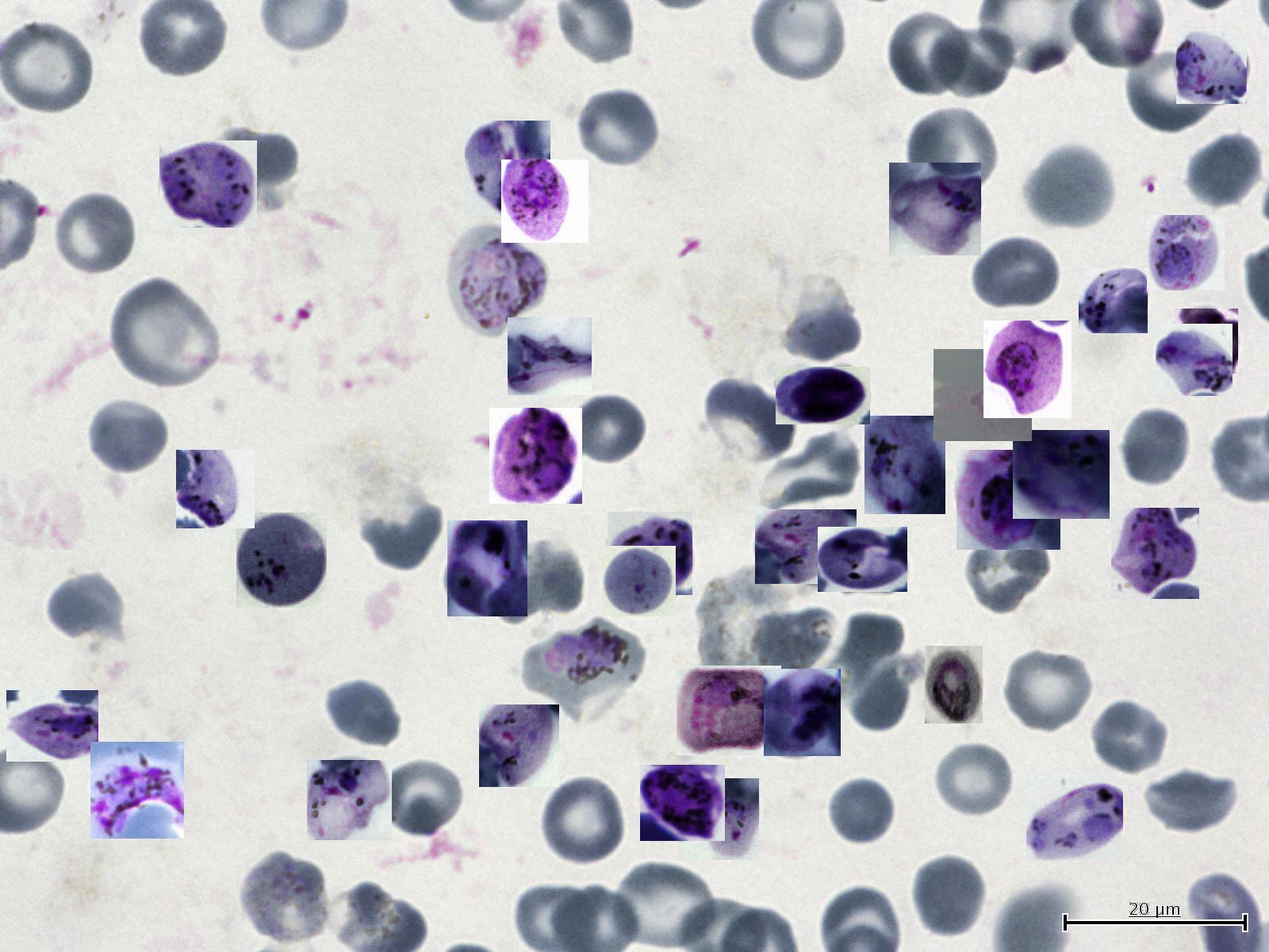Infected: (448, 223, 549, 336), (518, 618, 647, 703), (957, 450, 1060, 550), (677, 666, 782, 755), (90, 742, 184, 839), (934, 349, 1032, 441), (489, 408, 582, 504), (236, 512, 327, 608), (1026, 772, 1123, 861), (983, 321, 1072, 418), (1013, 430, 1110, 519), (159, 141, 257, 228), (889, 163, 981, 255), (465, 121, 550, 216), (1111, 508, 1199, 599), (865, 416, 945, 514), (447, 520, 527, 616), (756, 509, 857, 584), (501, 159, 588, 243), (608, 512, 692, 595), (307, 760, 392, 840), (479, 704, 559, 787), (6, 690, 98, 762), (765, 669, 841, 756), (680, 778, 760, 860), (508, 317, 592, 395), (640, 765, 725, 841), (176, 450, 255, 528), (1147, 215, 1225, 290), (818, 527, 907, 592), (1156, 324, 1233, 397), (776, 367, 870, 424), (1176, 30, 1247, 104), (602, 546, 676, 616), (925, 646, 983, 724), (1079, 268, 1148, 333), (1175, 309, 1238, 374)
Uninfected: (107, 281, 215, 388), (0, 24, 99, 119), (961, 516, 1052, 616), (617, 859, 717, 950), (904, 107, 1000, 201), (700, 375, 798, 466), (1121, 49, 1222, 133), (539, 774, 628, 868), (1023, 142, 1115, 231), (240, 852, 329, 944), (1002, 647, 1094, 734), (374, 754, 466, 839), (764, 429, 861, 509), (746, 605, 835, 691), (50, 190, 137, 277), (575, 87, 660, 171), (205, 128, 302, 199), (1141, 767, 1239, 837), (86, 397, 169, 478), (911, 853, 988, 938), (1089, 697, 1170, 777), (933, 740, 1014, 820), (888, 13, 968, 93), (499, 547, 582, 624), (926, 27, 1015, 98), (1183, 132, 1264, 210), (44, 570, 126, 647), (830, 611, 907, 693), (1117, 405, 1192, 489), (321, 676, 403, 749), (974, 237, 1058, 307), (568, 391, 646, 466), (822, 774, 897, 850), (358, 501, 443, 567), (776, 297, 861, 363), (850, 658, 908, 732)
